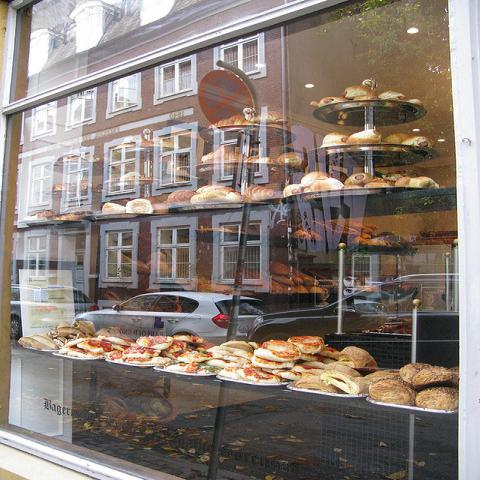car: (248, 273, 462, 372), (72, 291, 272, 342), (10, 284, 98, 341)
